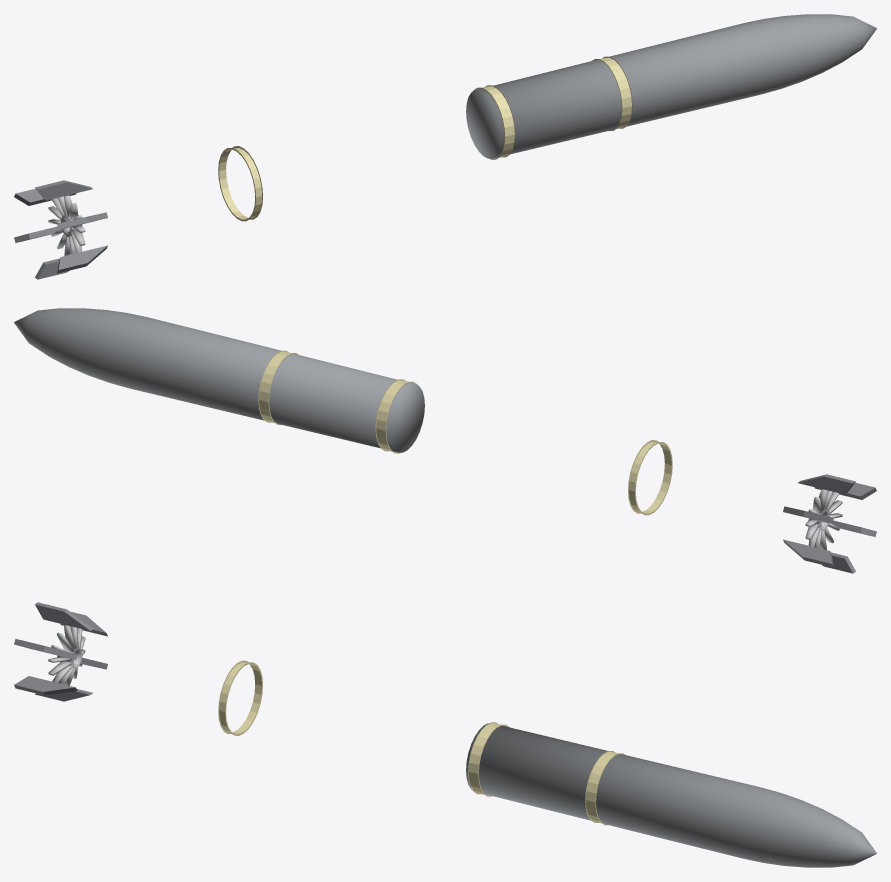
Rendered from RU_TORP_SET65_LOD1.fbx.
3 views of the same model, one above another, from view 1: azimuth 30°, elevation 25°; view 2: azimuth 150°, elevation 25°; view 3: azimuth 330°, elevation 25° (orthographic).
Parts seen in each view (by area): view 1: WPN_RU_TORP_SET65_LOD1_Body, WPN_RU_TORP_SET65_LOD1_Marking, WPN_RU_TORP_SET65_LOD1_Fins, WPN_RU_TORP_SET65_LOD1_Propulsor; view 2: WPN_RU_TORP_SET65_LOD1_Body, WPN_RU_TORP_SET65_LOD1_Marking, WPN_RU_TORP_SET65_LOD1_Fins, WPN_RU_TORP_SET65_LOD1_Propulsor; view 3: WPN_RU_TORP_SET65_LOD1_Body, WPN_RU_TORP_SET65_LOD1_Marking, WPN_RU_TORP_SET65_LOD1_Fins, WPN_RU_TORP_SET65_LOD1_Propulsor.
Boxes of the visible parts, x1,y1,x2,y2 form: WPN_RU_TORP_SET65_LOD1_Body: [466, 14, 876, 158]; WPN_RU_TORP_SET65_LOD1_Marking: [218, 56, 632, 221]; WPN_RU_TORP_SET65_LOD1_Fins: [14, 180, 107, 279]; WPN_RU_TORP_SET65_LOD1_Propulsor: [48, 195, 85, 255]; WPN_RU_TORP_SET65_LOD1_Body: [14, 308, 424, 452]; WPN_RU_TORP_SET65_LOD1_Marking: [258, 350, 672, 515]; WPN_RU_TORP_SET65_LOD1_Fins: [783, 474, 876, 573]; WPN_RU_TORP_SET65_LOD1_Propulsor: [805, 489, 842, 549]; WPN_RU_TORP_SET65_LOD1_Body: [466, 723, 876, 867]; WPN_RU_TORP_SET65_LOD1_Marking: [218, 660, 625, 825]; WPN_RU_TORP_SET65_LOD1_Fins: [14, 602, 107, 701]; WPN_RU_TORP_SET65_LOD1_Propulsor: [48, 625, 85, 685].
Size of the model in its own units: 7.03 by 0.6447 by 0.7199.
